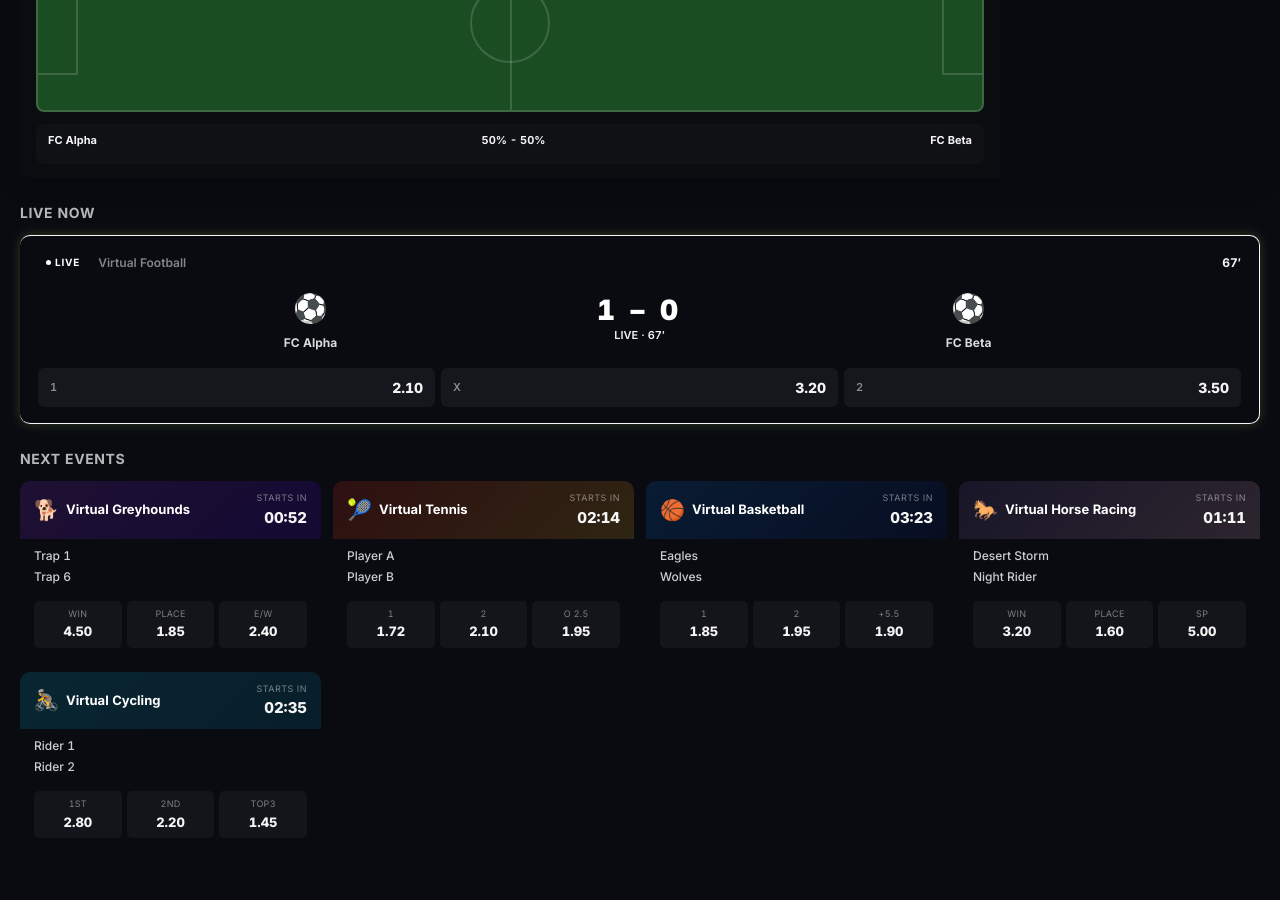
Test: Virtuals Component › Bet Selection › shows "Added to slip" toast when selecting new bet
(page scrolled)
Click the button "1 2.10" at {"x": 408, "y": 388}, box [38,368,435,407]
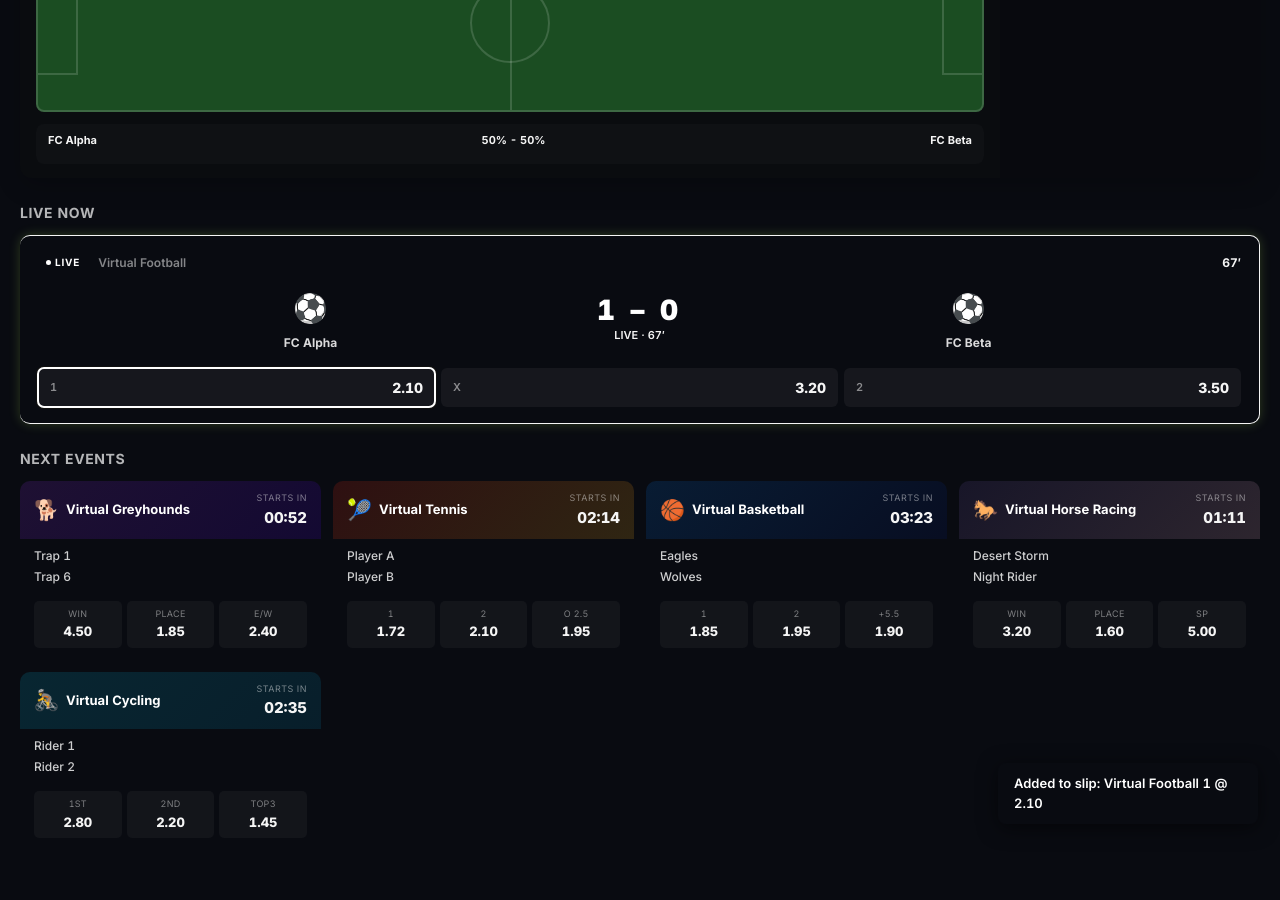
Expected: the text "Added to slip: Virtual Football 1 @ 2.10" is shown, [998,763,1258,824]
